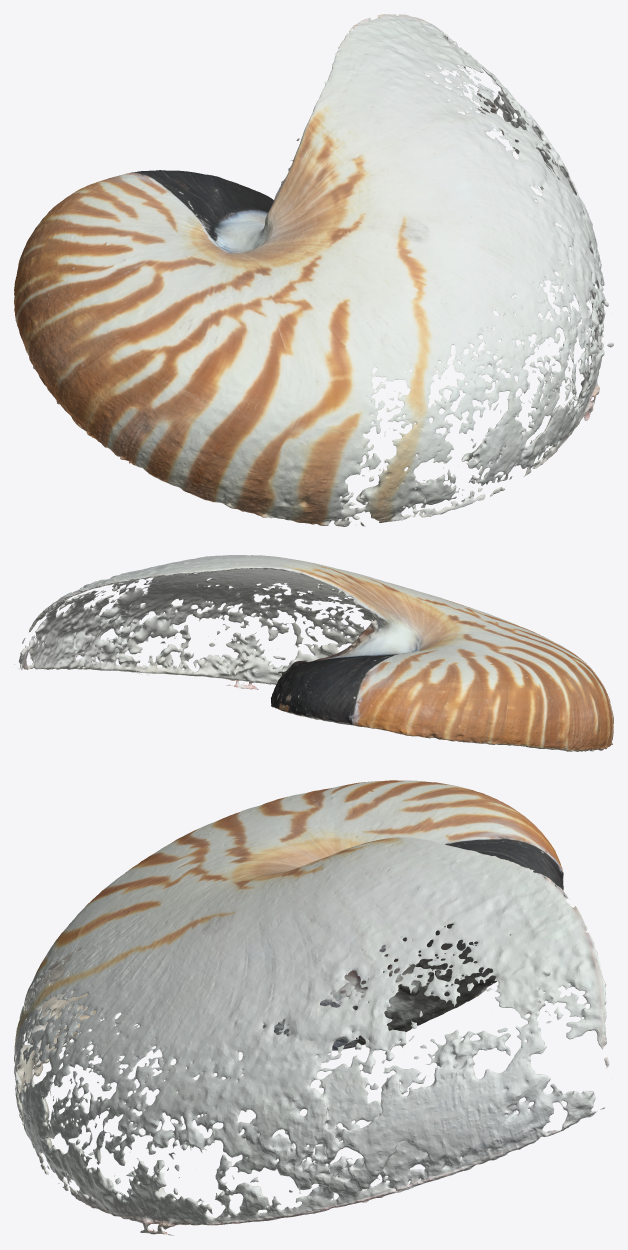
Rendered from MZUR3D-046.glb.
The picture shows the model from 3 angles, top to bottom: view 1: azimuth 30°, elevation 25°; view 2: azimuth 150°, elevation 25°; view 3: azimuth 270°, elevation 25°; orthographic projection. The views are drawn at different scales.
Visible parts, largest first — view 1: MZUR3D-046; view 2: MZUR3D-046; view 3: MZUR3D-046.
Boxes of the visible parts, x1,y1,x2,y2 form: MZUR3D-046: (14, 14, 613, 526); MZUR3D-046: (14, 555, 613, 751); MZUR3D-046: (14, 780, 609, 1235).
Size of the model in its own units: 1.62 by 0.7908 by 1.27.
1 material, 1 textured.
